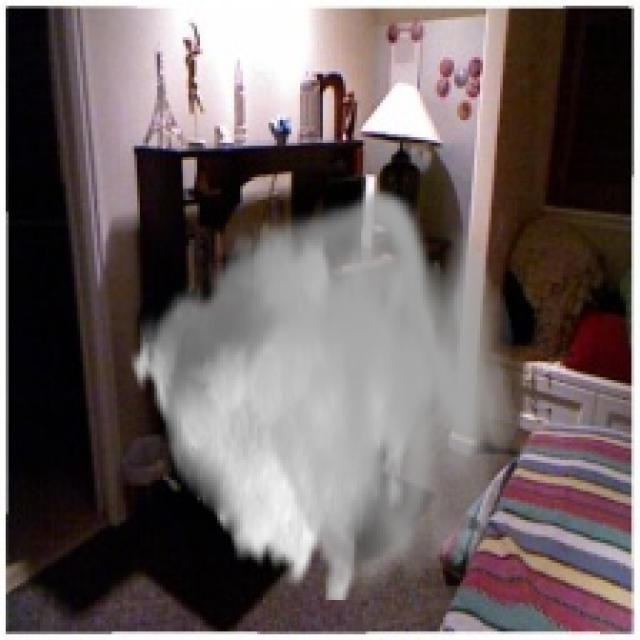smoke: (129, 183, 517, 600)
